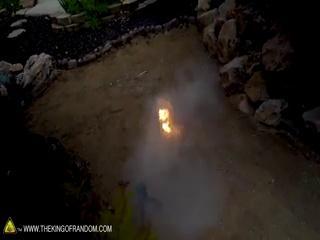Fire: (152, 101, 175, 139)
